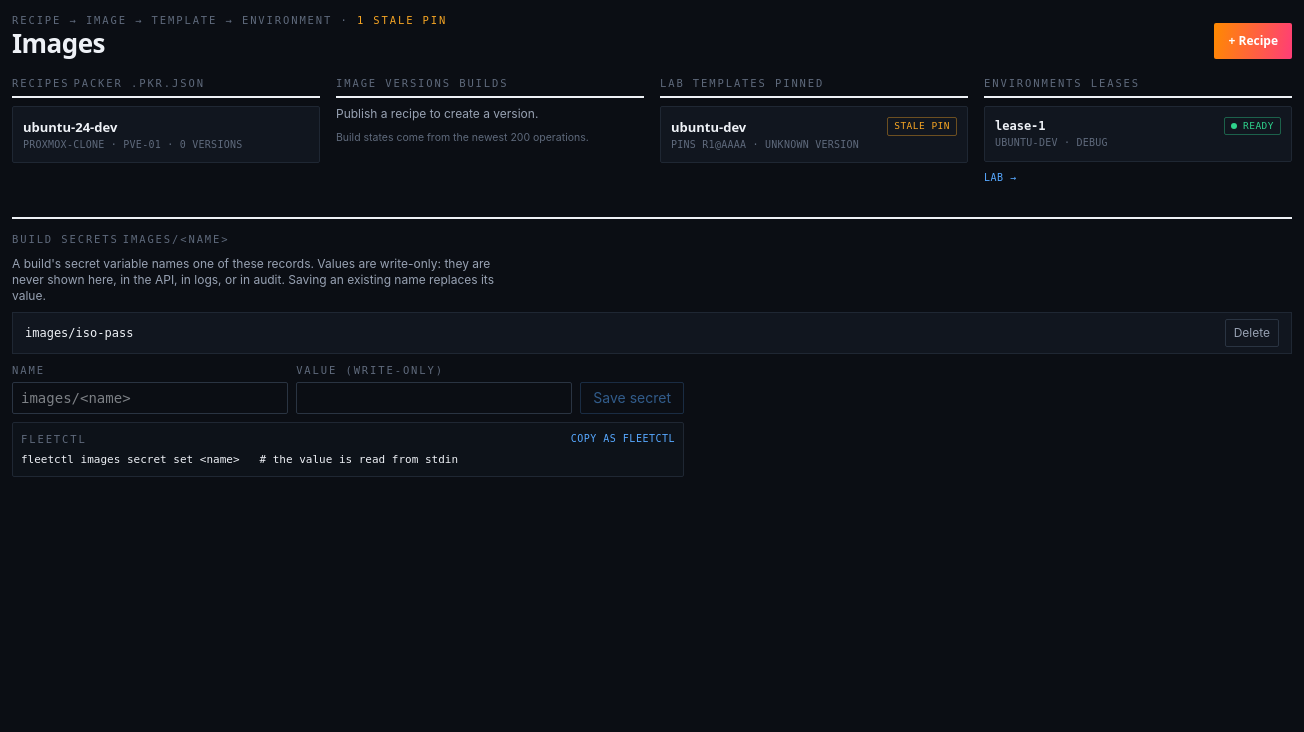
Test case: build secrets › lists names only and writes a value through a closure that the mutation cache never holds
Check: the list with test id "secrets-list" shows "images/iso-pass", box left=25, top=326, right=133, bottom=340
Check: the password field with test id "secret-value" is empty, box left=296, top=382, right=572, bottom=414
Type "images/pve-token" into the field with test id "secret-name" at {"x": 150, "y": 398}, box left=12, top=382, right=288, bottom=414
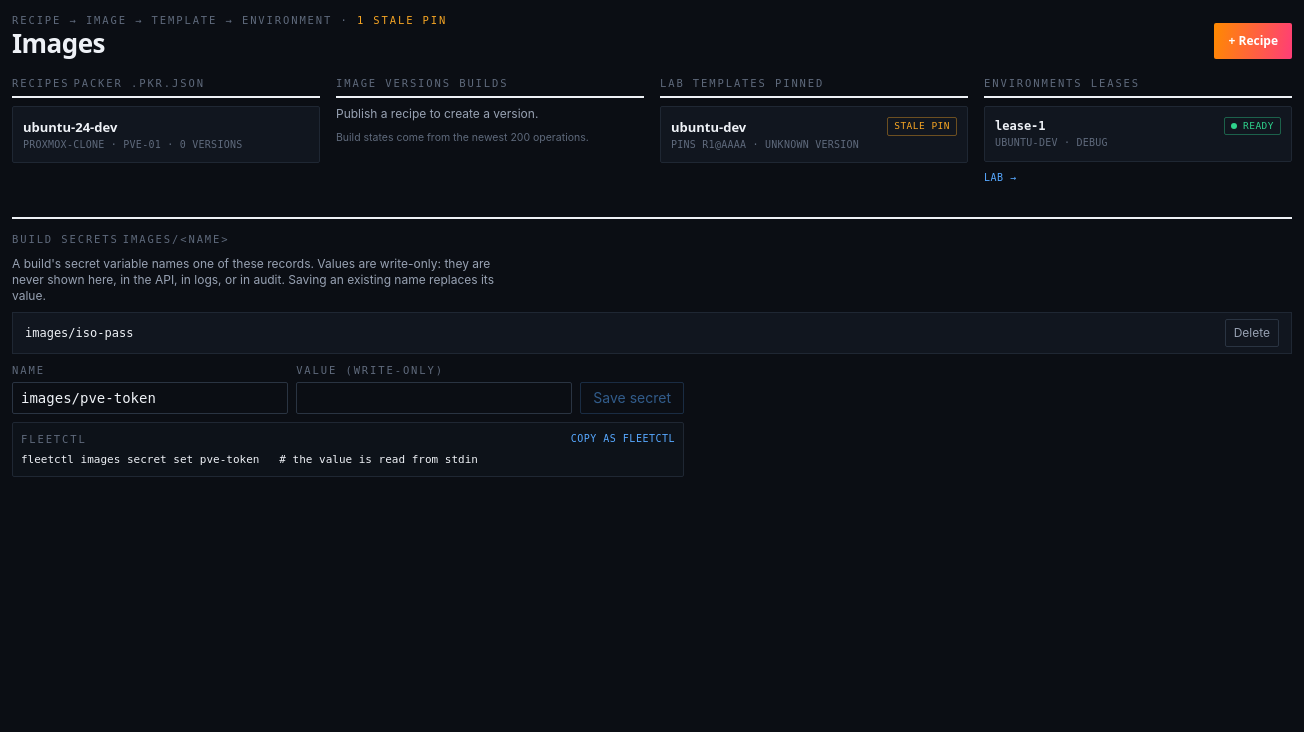
Type "hunter2-fixture" into the password field with test id "secret-value" at {"x": 434, "y": 398}, box left=296, top=382, right=572, bottom=414
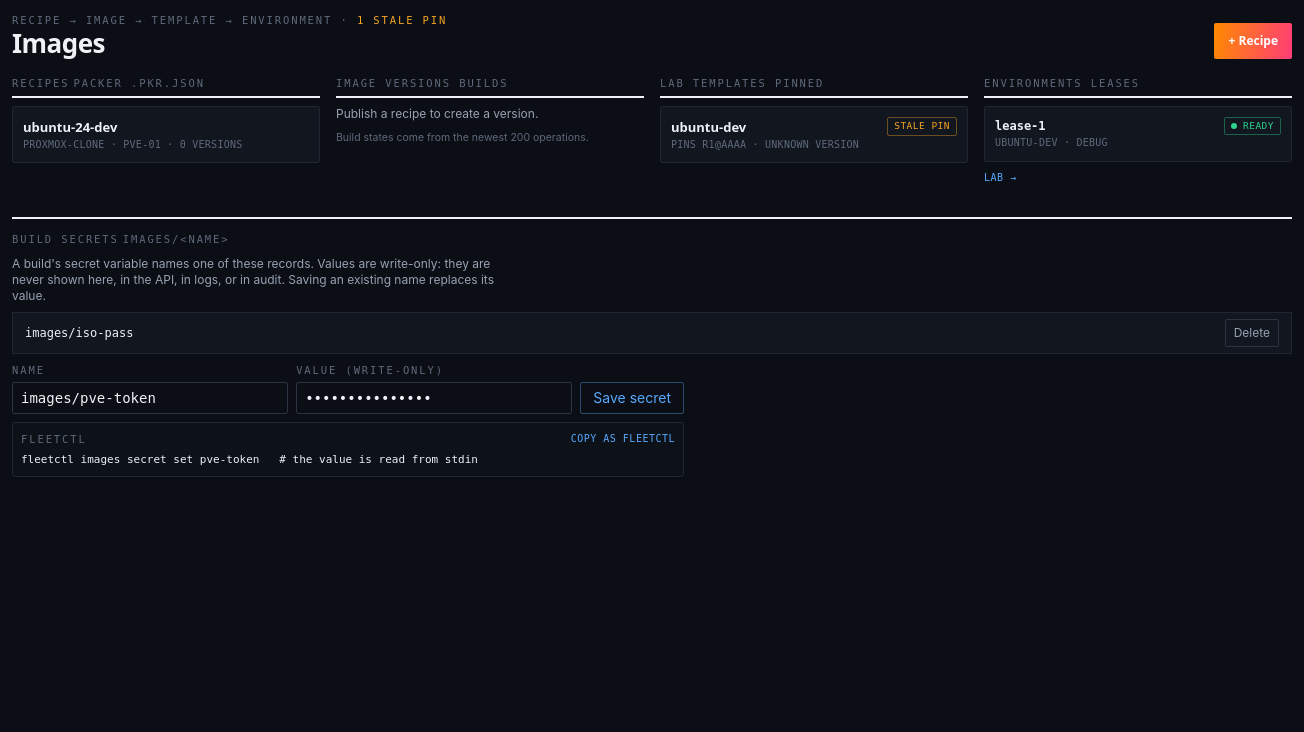
Submit the form, box left=12, top=362, right=684, bottom=414
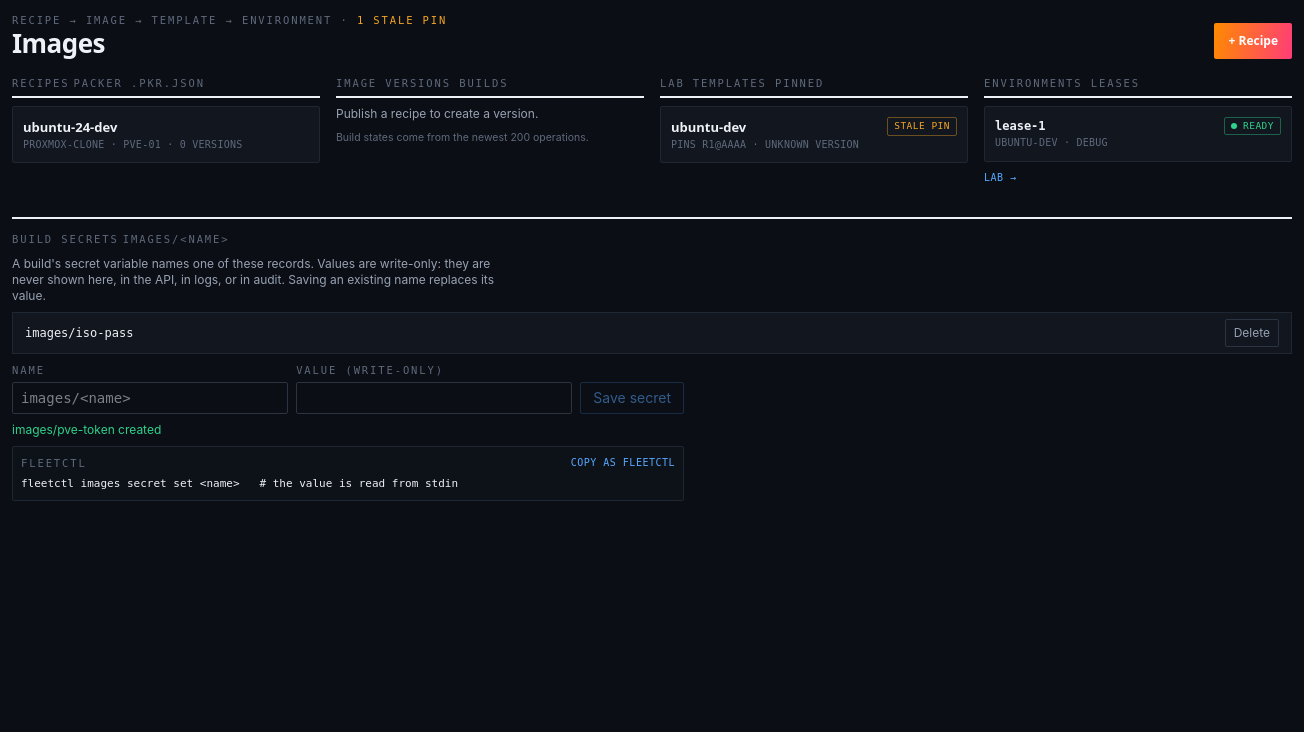
Check: the message with test id "secret-saved" reads "images/pve-token created", box left=12, top=422, right=161, bottom=437
Check: the password field with test id "secret-value" is empty, box left=296, top=382, right=572, bottom=414
